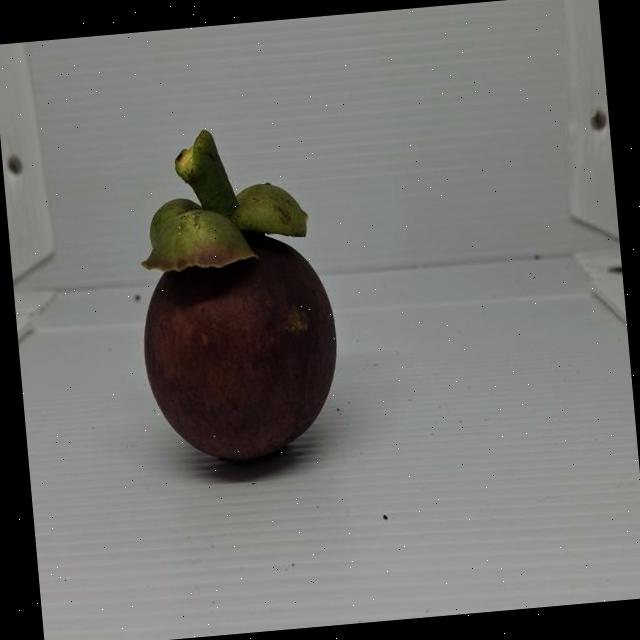mangosteen: (73, 101, 361, 518)
